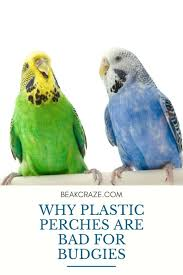budgie: (1, 49, 103, 184), (94, 44, 183, 182)
